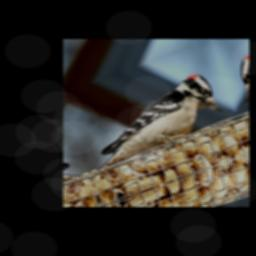Woodpecker: (81, 68, 227, 173)
